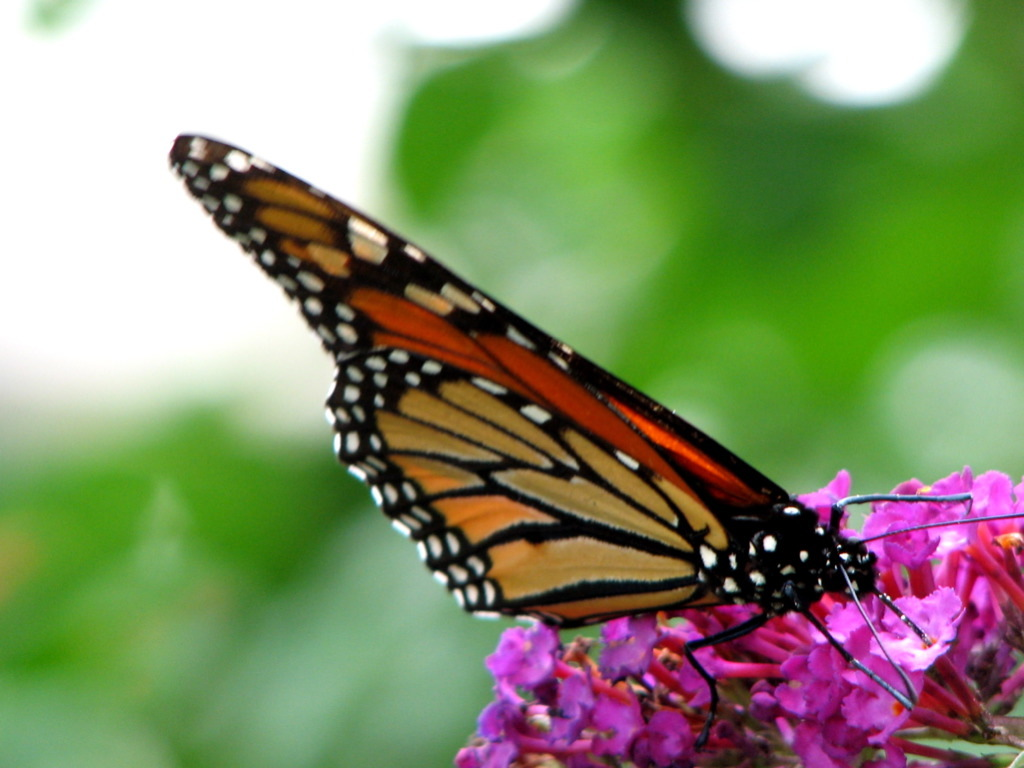Butterfly: (159, 118, 917, 647)
